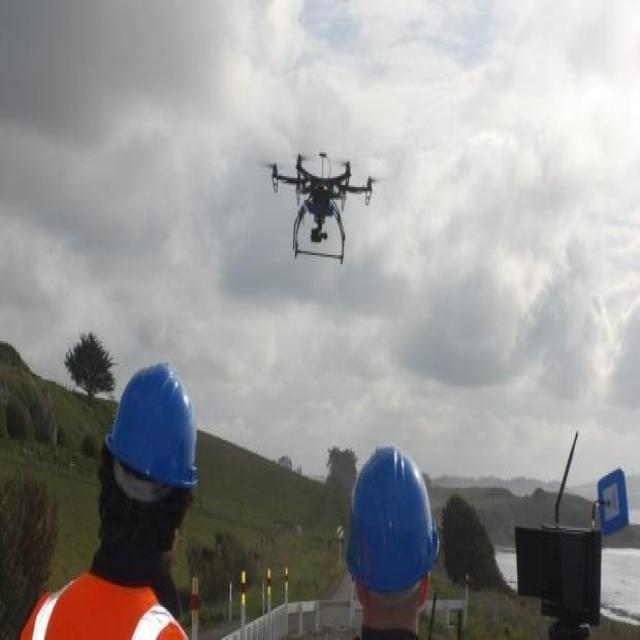drone: (270, 148, 375, 266)
